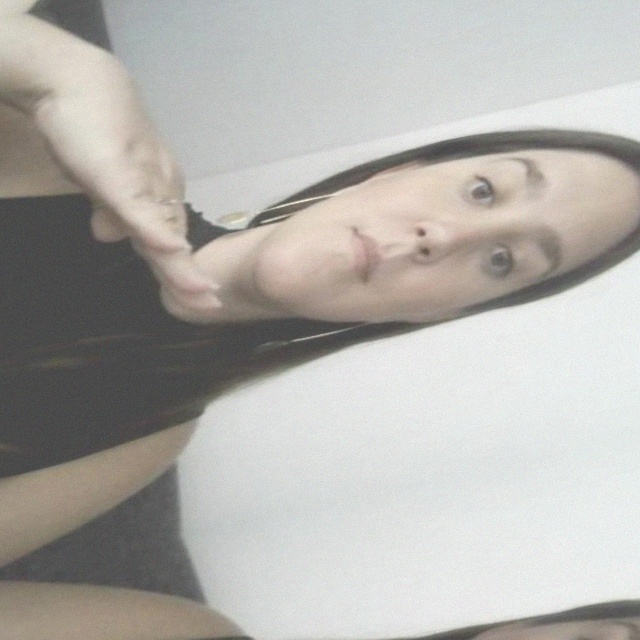Paper: (21, 56, 230, 302)
